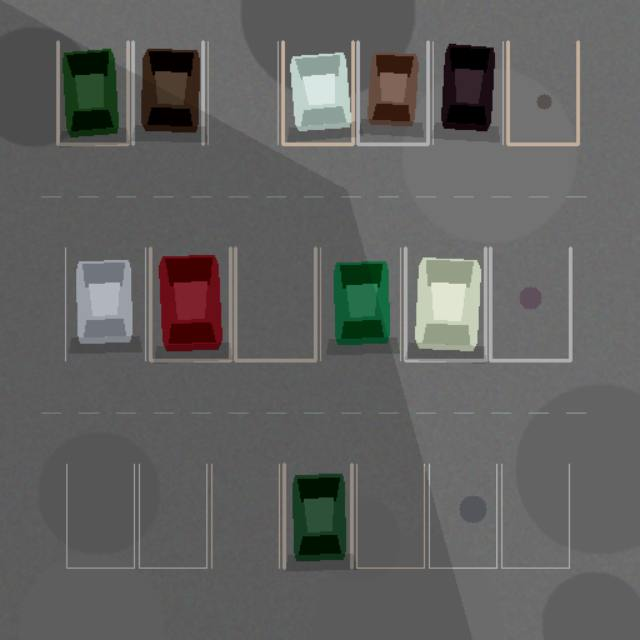space-empty: (235, 247, 315, 360), (490, 247, 570, 360), (207, 41, 277, 144), (507, 41, 577, 144), (66, 464, 134, 567), (211, 464, 279, 567), (356, 464, 424, 567), (501, 464, 569, 567), (139, 464, 206, 567), (429, 464, 496, 567)
space-occupied: (65, 247, 145, 360), (150, 247, 230, 360), (320, 247, 400, 360), (405, 247, 485, 360), (57, 41, 127, 144), (133, 41, 203, 144), (283, 41, 353, 144), (357, 41, 427, 144), (433, 41, 503, 144), (284, 464, 351, 567)
